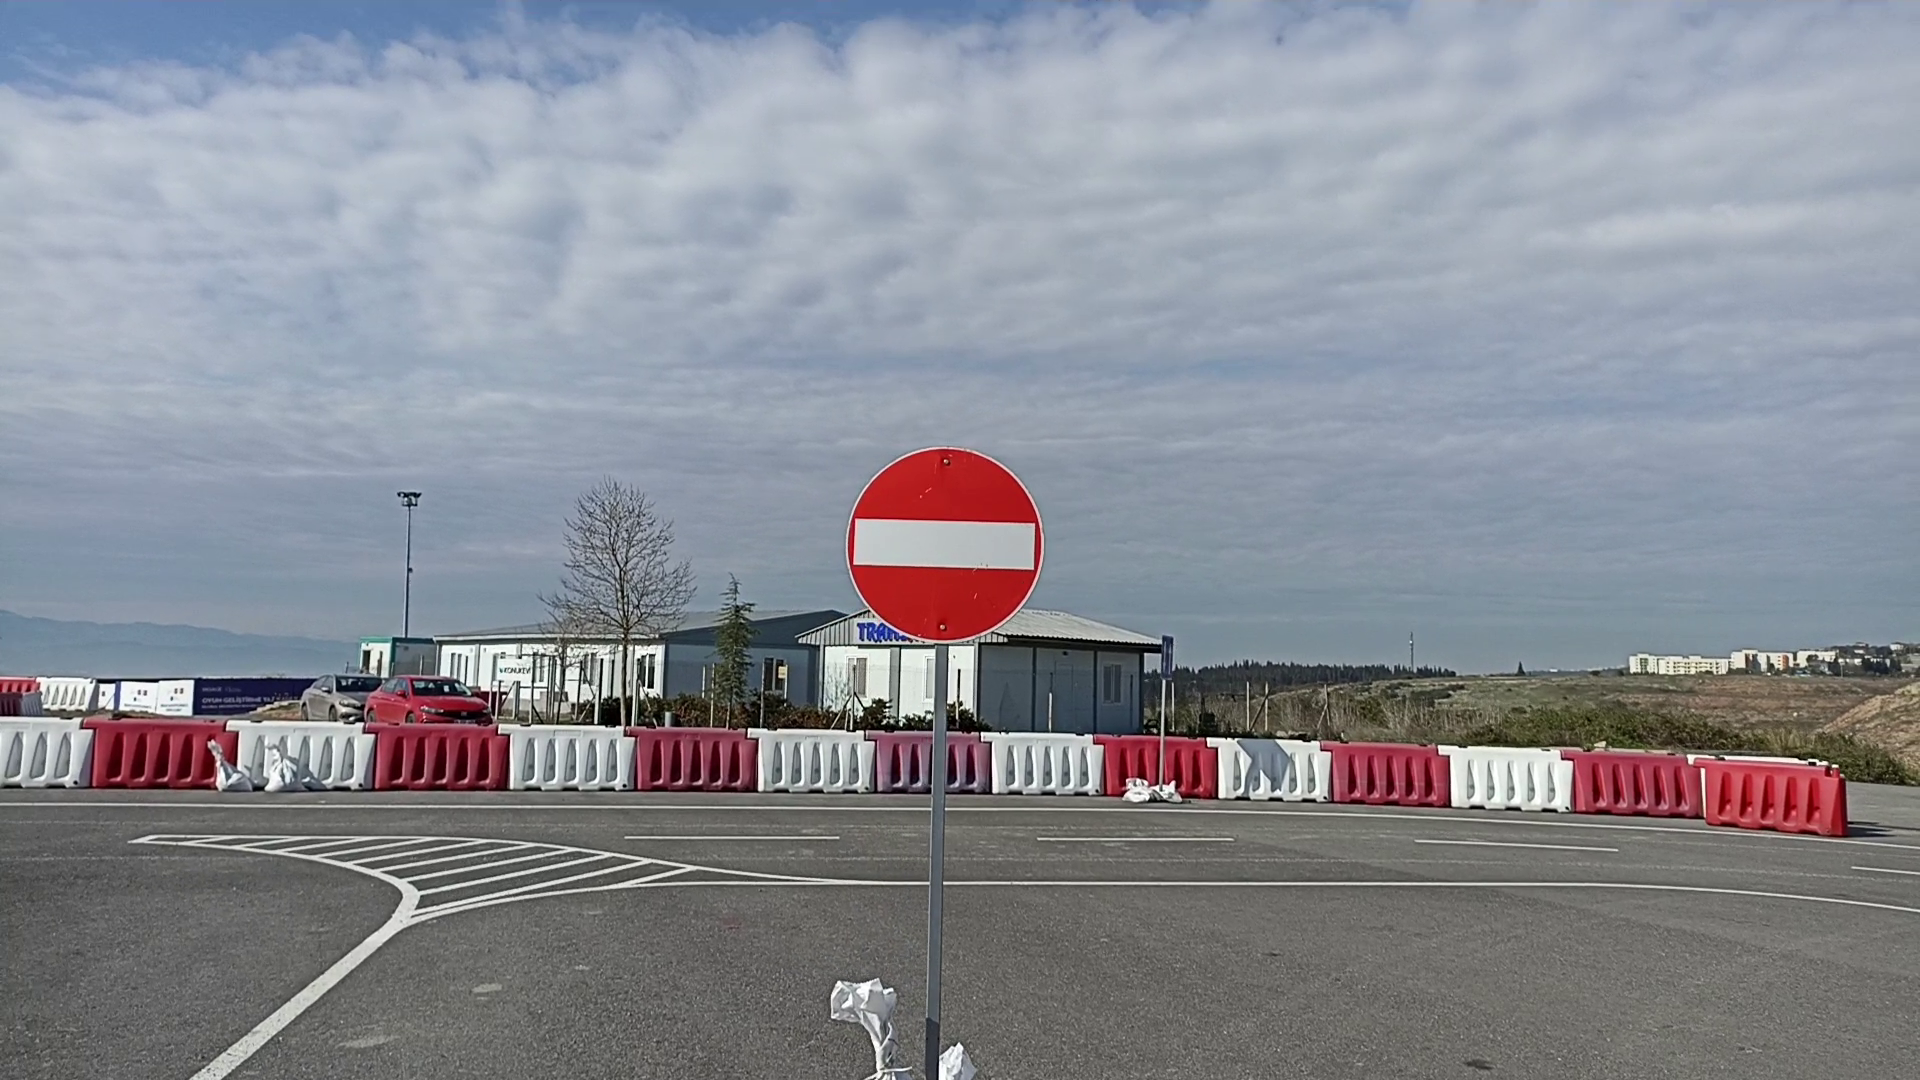noentryway: (843, 440, 1051, 644)
